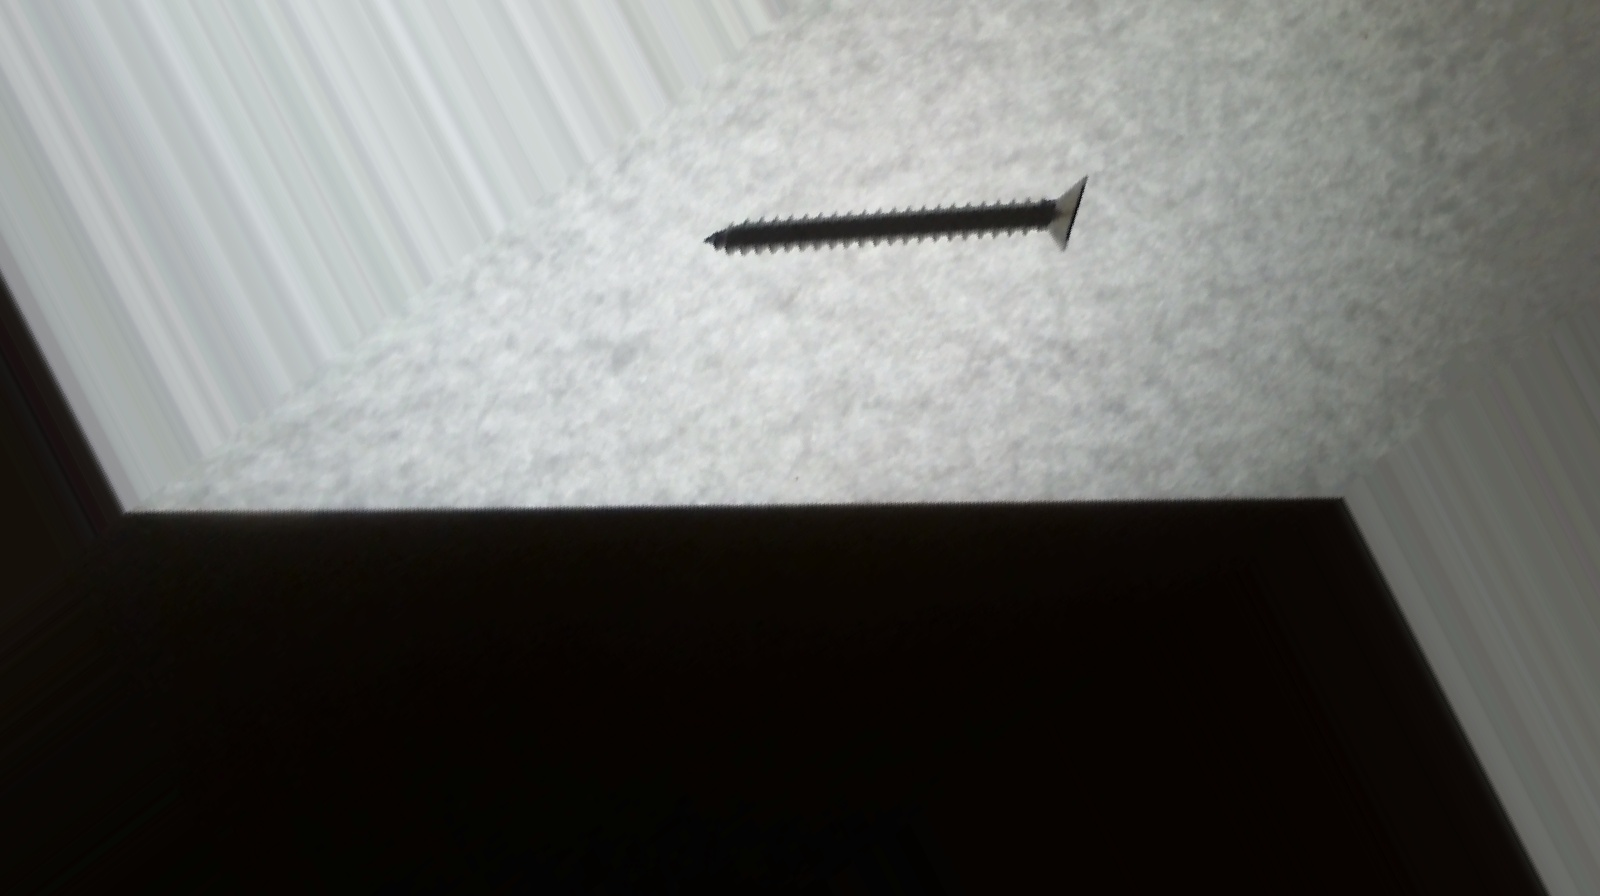S002: (674, 0, 1127, 465)
